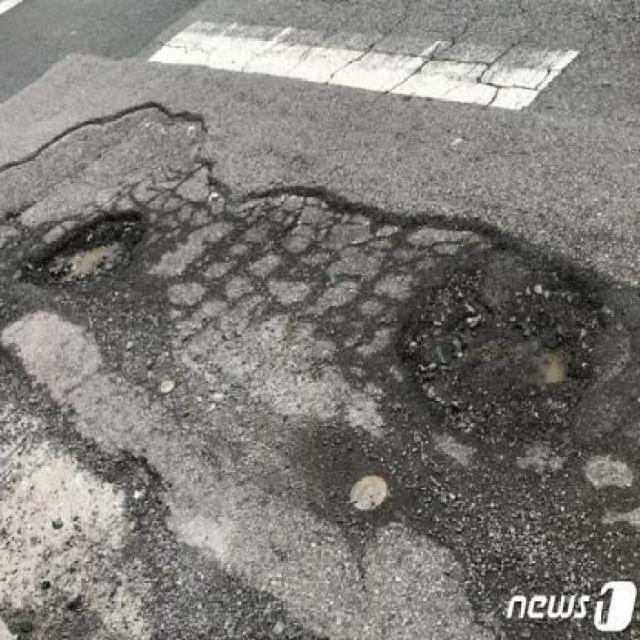Buraco: (385, 235, 640, 460), (11, 208, 151, 292)
